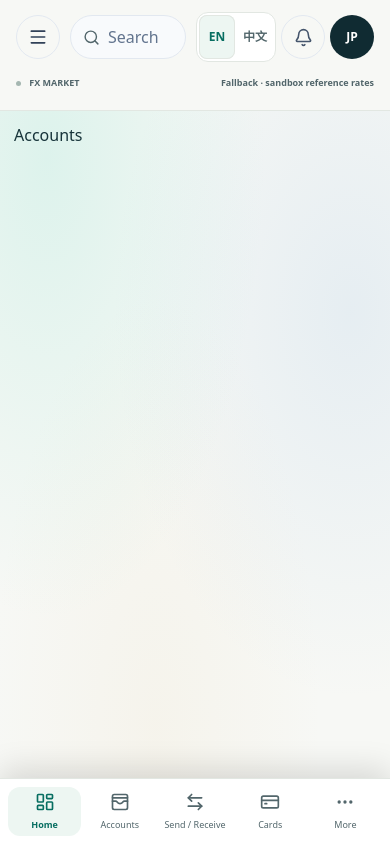
Test: AppShell › keeps the header clear and retains the demo label in mobile navigation
Expected: the text "Demo" is not shown
Expected: the element named "Currency market ticker" is shown, [16,76,374,89]
Click the button named "Open navigation": x=38, y=37 [16,15,60,59]
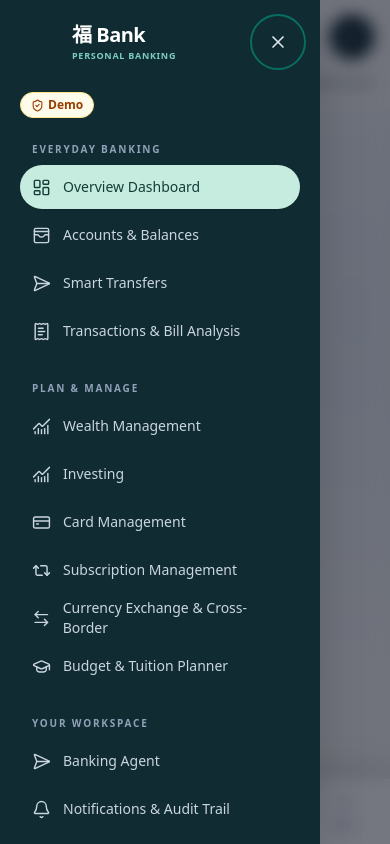
Expected: the text "Demo" is shown, [20,92,94,118]
